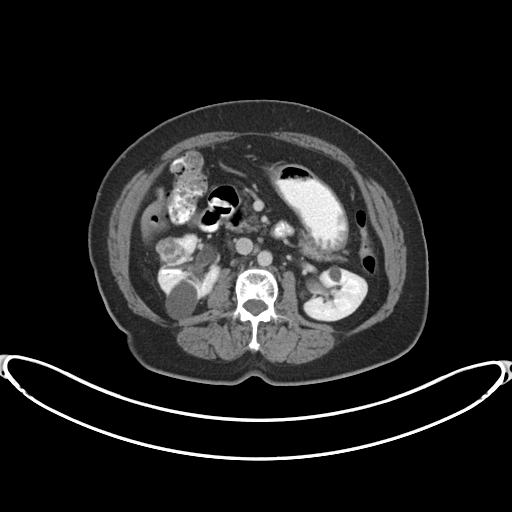Lesion: (163, 277, 199, 324)
